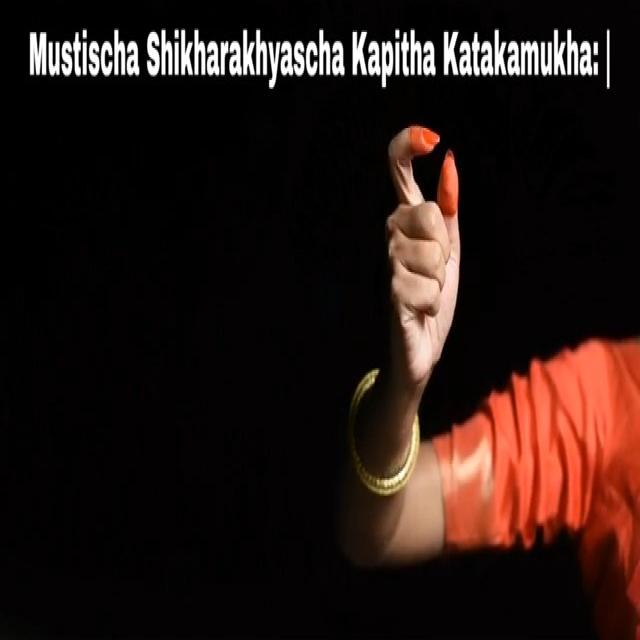Kapittha: (366, 120, 470, 377)
bangle: (342, 396, 424, 504)
text: (23, 15, 615, 96)
